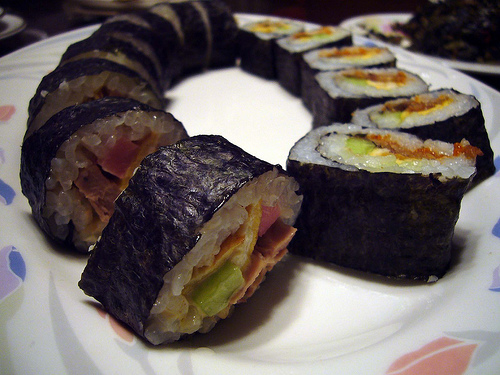gimbab: (17, 0, 497, 350)
